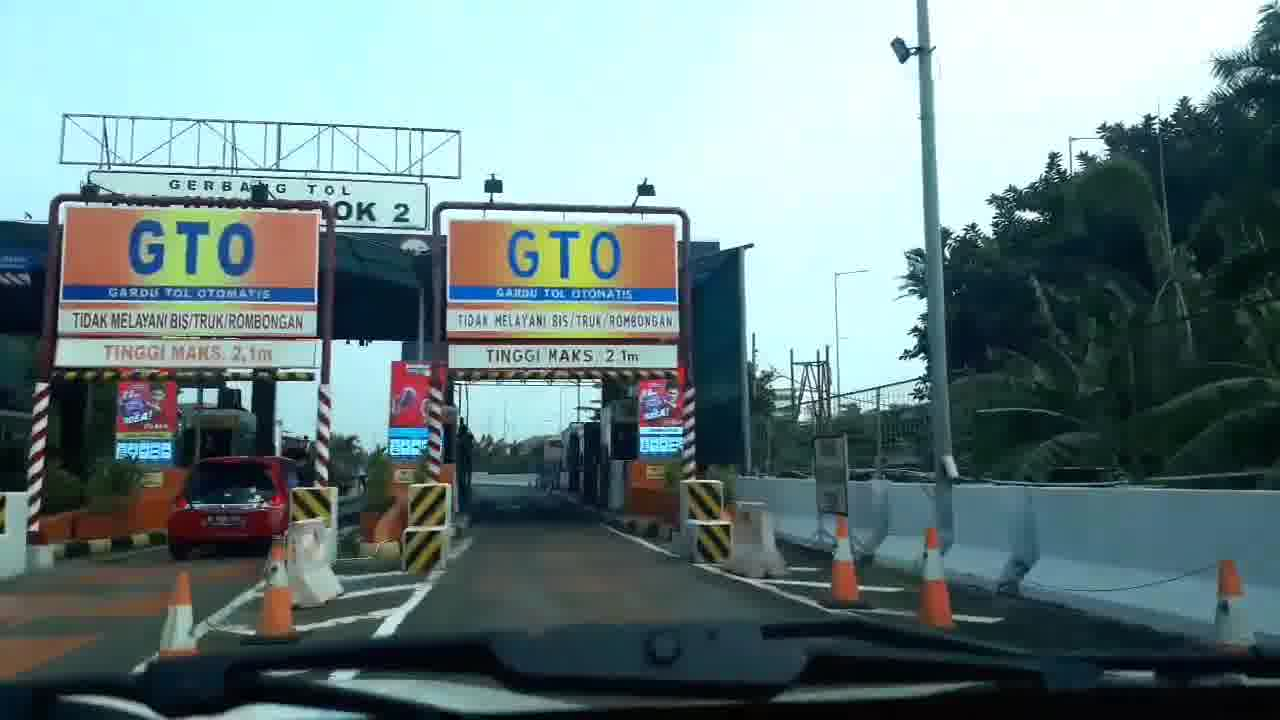plate_positive: (205, 513, 243, 529)
